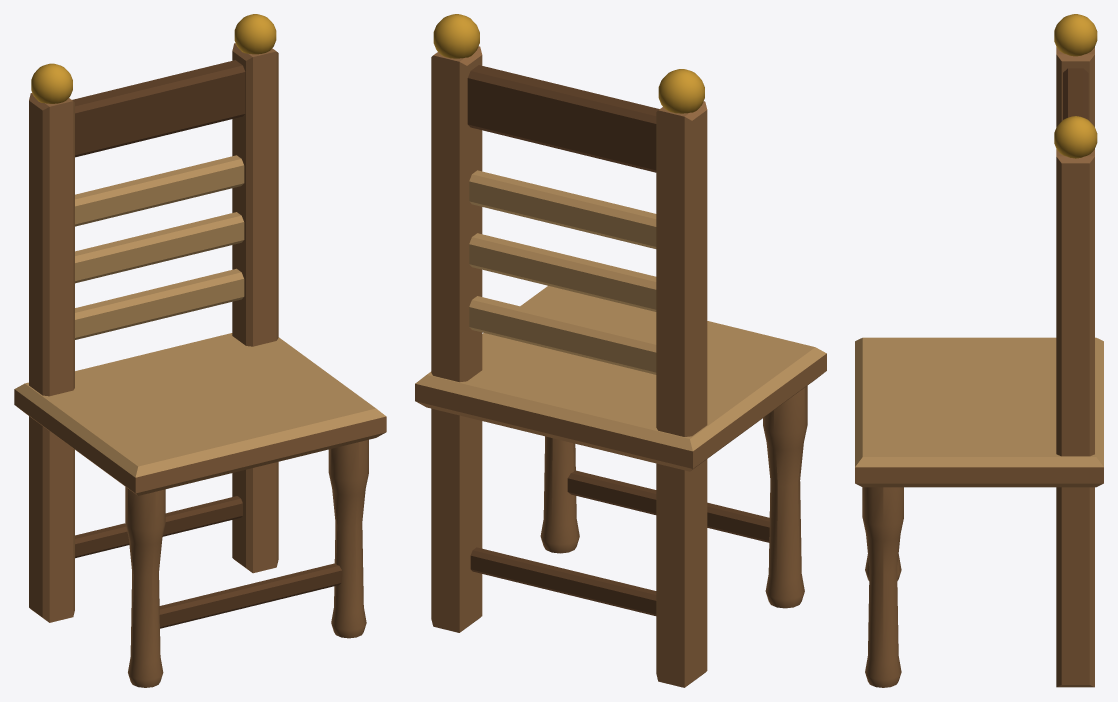
The model's file is Chair_11.glb.
3 renders of one model, left to right at view 1: azimuth 30°, elevation 25°; view 2: azimuth 150°, elevation 25°; view 3: azimuth 270°, elevation 25°, orthographic. The views are drawn at different scales.
Visible parts, largest first — view 1: Chair_11; view 2: Chair_11; view 3: Chair_11.
Boxes of the visible parts, bbox=[...] form: Chair_11: bbox=[14, 14, 386, 687]; Chair_11: bbox=[415, 14, 826, 687]; Chair_11: bbox=[855, 14, 1103, 687].
Size of the model in its own units: 2.31 by 4.82 by 1.93.
